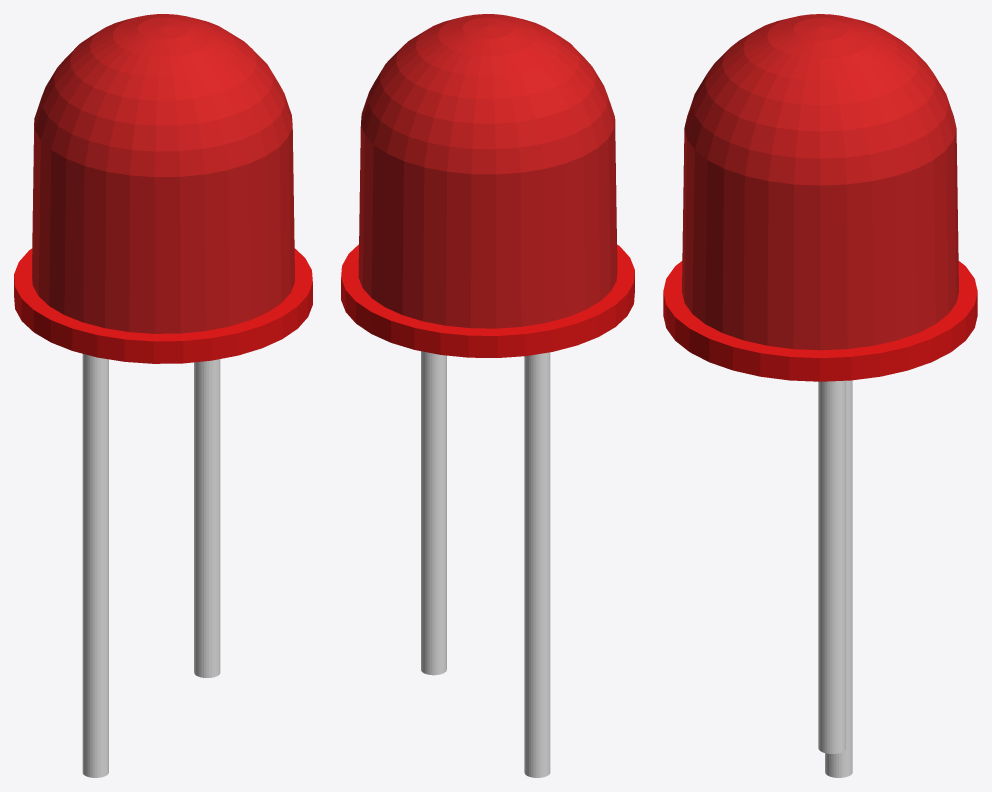
Rendered from 3D_LED.fbx.
3 views of the same model, side by side, from view 1: azimuth 30°, elevation 25°; view 2: azimuth 150°, elevation 25°; view 3: azimuth 270°, elevation 25° (orthographic). The views are drawn at different scales.
Parts seen in each view (by area): view 1: LED, Cylinder_002, Cylinder, Cylinder_001; view 2: LED, Cylinder_002, Cylinder, Cylinder_001; view 3: LED, Cylinder, Cylinder_001, Cylinder_002.
Part boxes in pixels (x1,y1,x2,y2): LED: [32, 14, 294, 333]; Cylinder_002: [82, 354, 108, 777]; Cylinder: [14, 248, 312, 363]; Cylinder_001: [194, 359, 220, 677]; LED: [358, 14, 617, 328]; Cylinder_002: [524, 352, 550, 777]; Cylinder: [341, 244, 634, 357]; Cylinder_001: [421, 351, 446, 675]; LED: [682, 14, 958, 350]; Cylinder: [663, 261, 977, 381]; Cylinder_001: [818, 380, 845, 753]; Cylinder_002: [825, 380, 852, 777].
Size of the model in its own units: 7.08 by 19.25 by 7.08.
